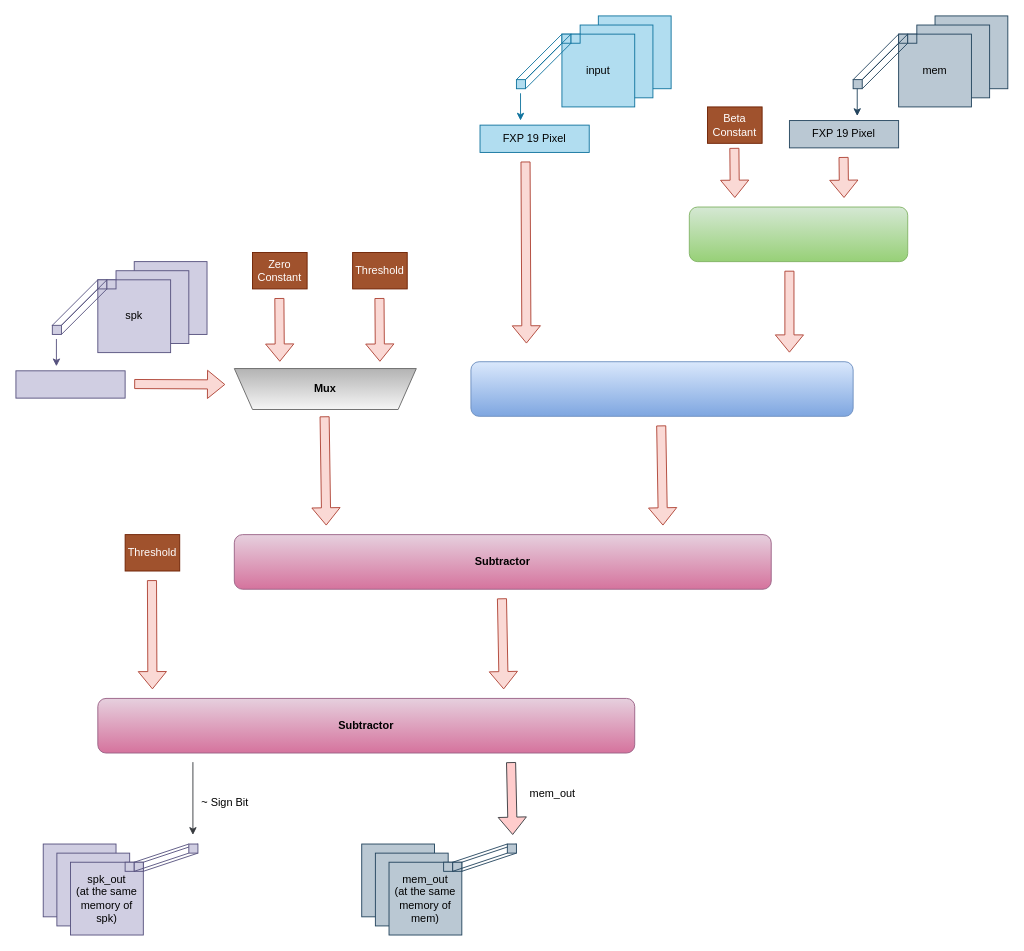
The diagram is 1024 pixels wide and 951 high, and some of its shapes have lost their labels. The shapes that lost their labels are listed below. From the top down, each one's centre as x and y in pixels, then its label:
pixel 798 234: Multiplier
pixel 70 384: Single Bit Zero
pixel 661 388: Adder
